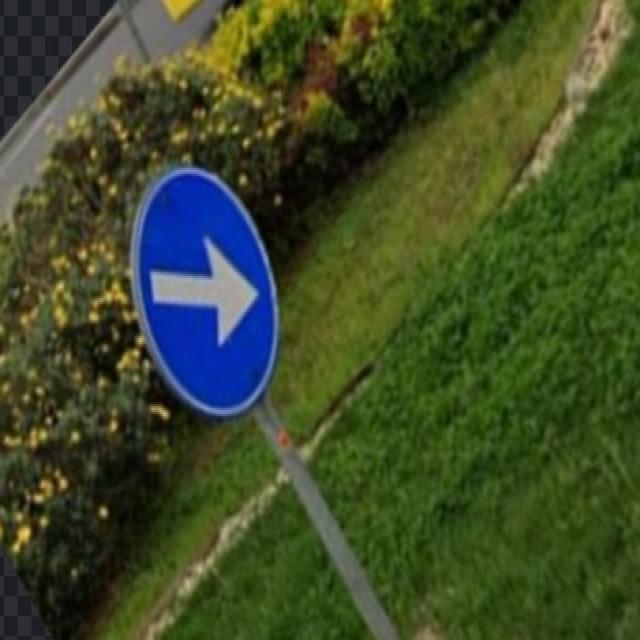Turn Right: (134, 161, 284, 419)
